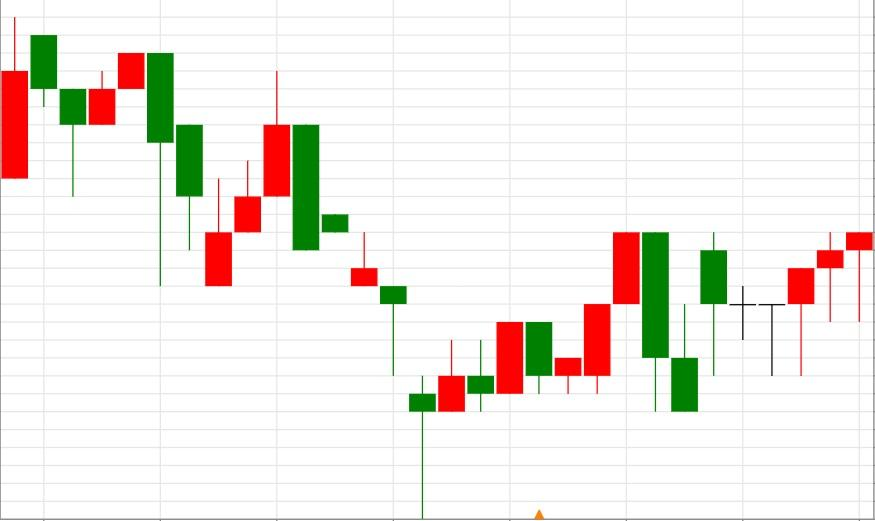bearish_engulfing_fall: (408, 231, 670, 519)
three_white_soldiers_rise: (118, 52, 291, 287), (699, 231, 874, 377)
